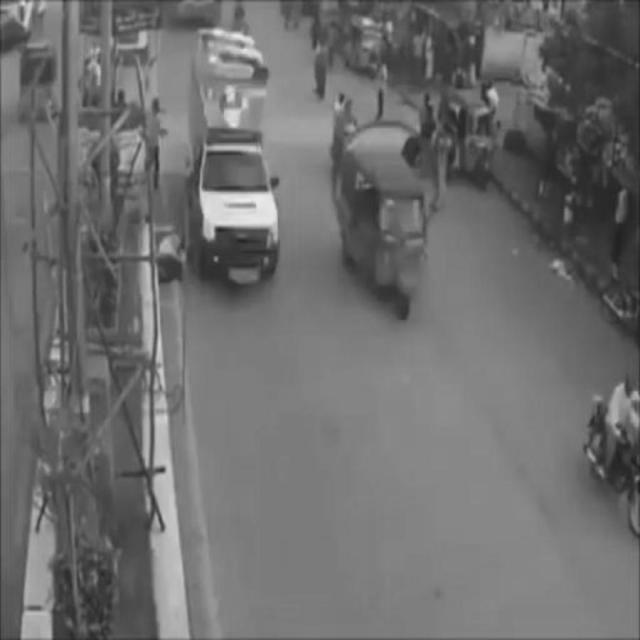person: (145, 99, 167, 192), (373, 57, 393, 125), (313, 30, 331, 103)
vehicle: (342, 149, 422, 323), (193, 139, 279, 280), (329, 94, 367, 164)
